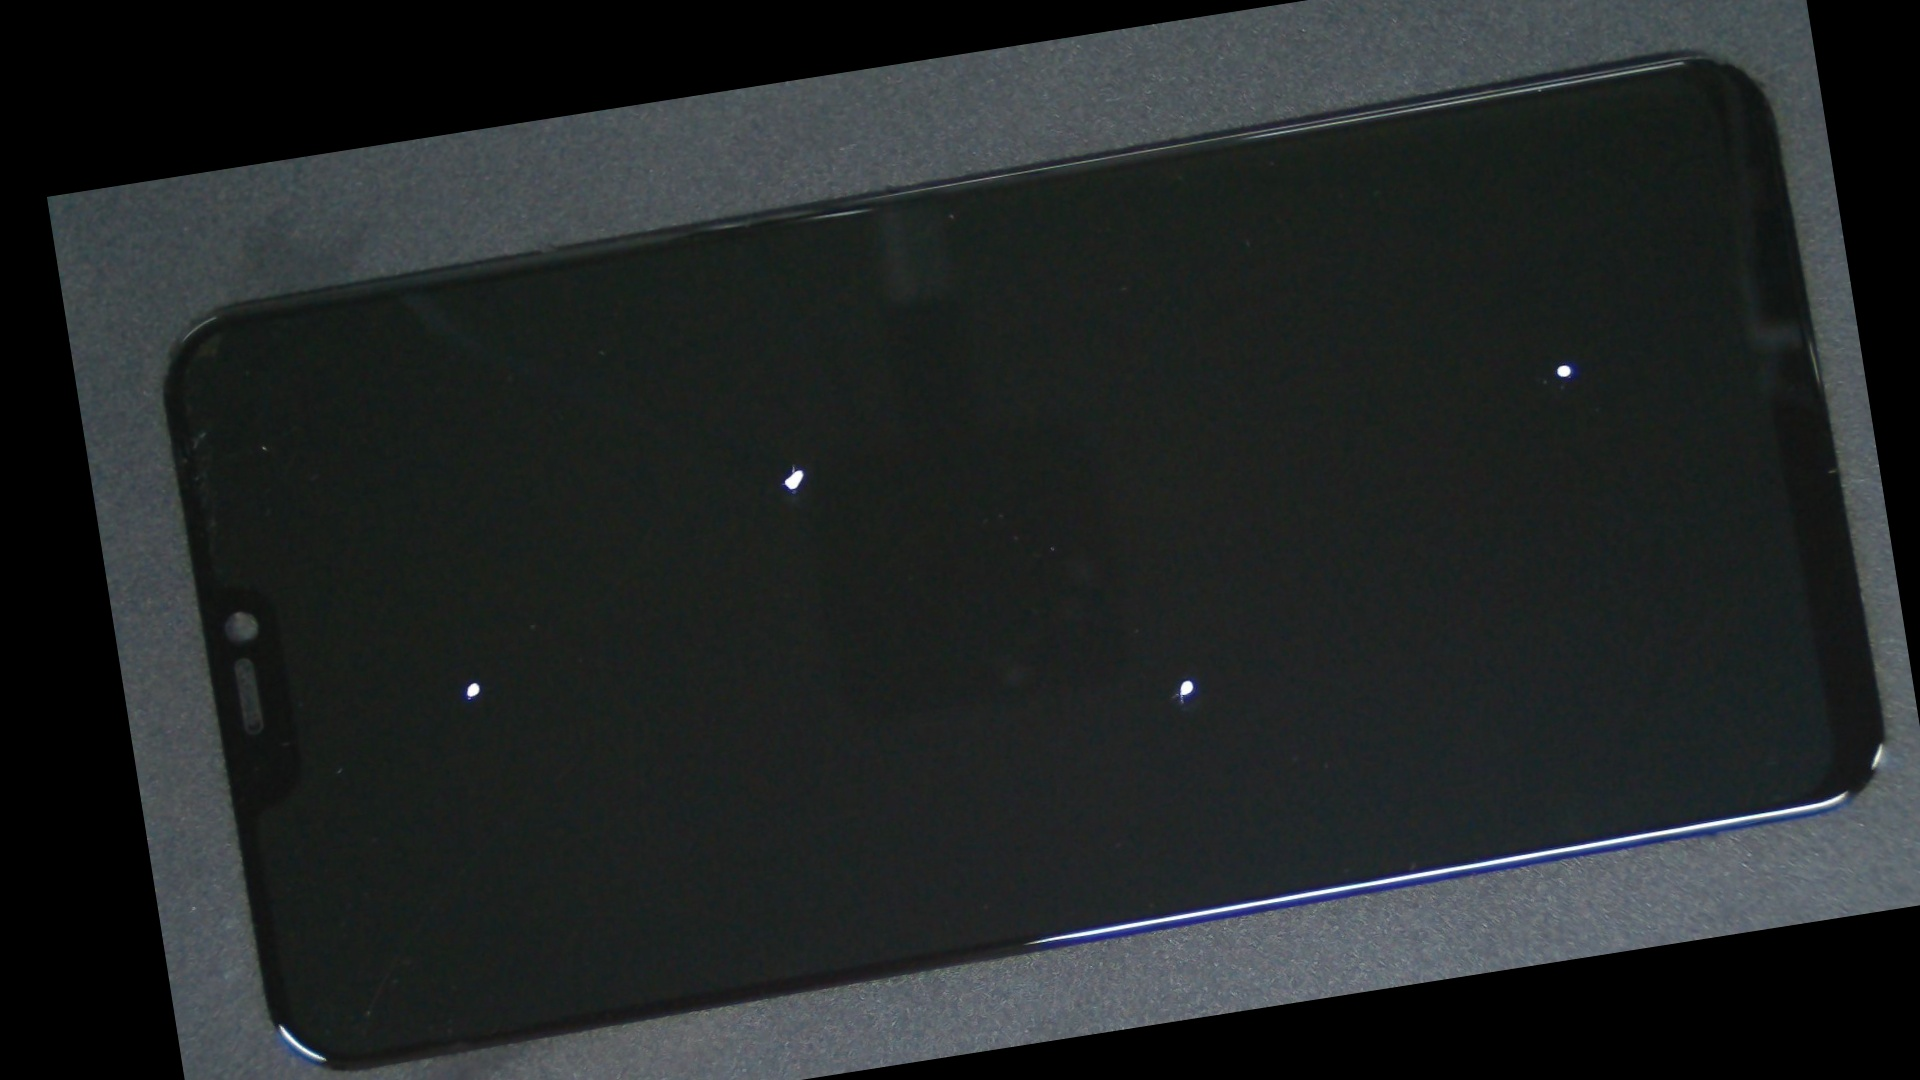oil: (617, 276, 1755, 1080), (807, 120, 1887, 674), (421, 225, 1167, 712), (261, 385, 688, 976)
